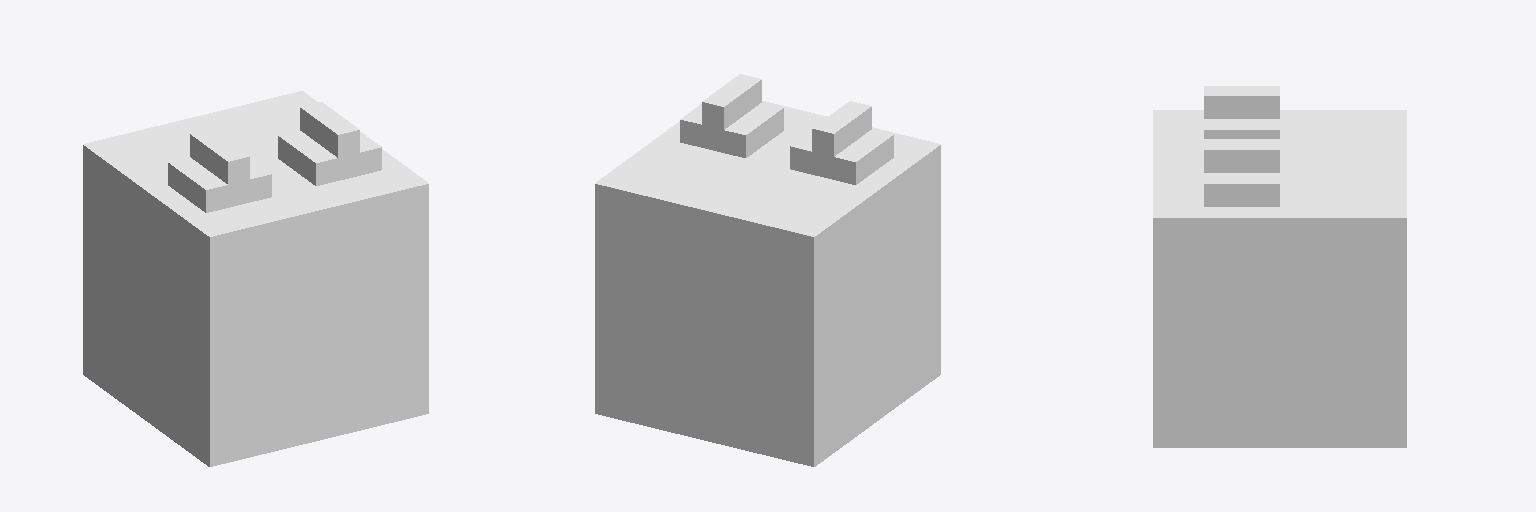
The model's file is CatMob.obj.
The picture shows the model from 3 angles: view 1: azimuth 30°, elevation 25°; view 2: azimuth 150°, elevation 25°; view 3: azimuth 270°, elevation 25°; orthographic projection.
Parts seen in each view (by area): view 1: object 1; view 2: object 1; view 3: object 1.
Part boxes in pixels (x1,y1,x2,y2): object 1: (83, 91, 428, 466); object 1: (595, 74, 940, 466); object 1: (1153, 86, 1406, 447).
Size of the model in its own units: 1 by 1.2 by 1.